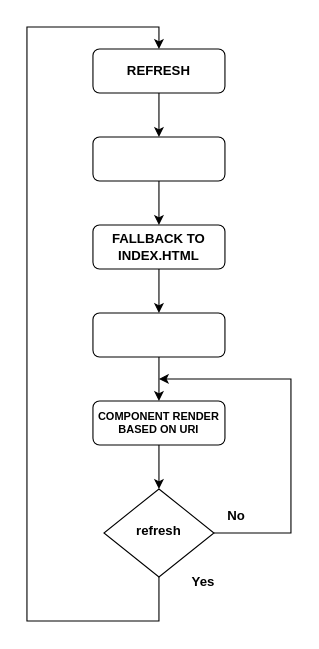
Image size: 319x649. Some labels were removed from this diagram. Each missing label, with the centre of its shape:
REACT ROUTER MOUNTS: the point at 158,334
RECEIVE 404: the point at 158,158
